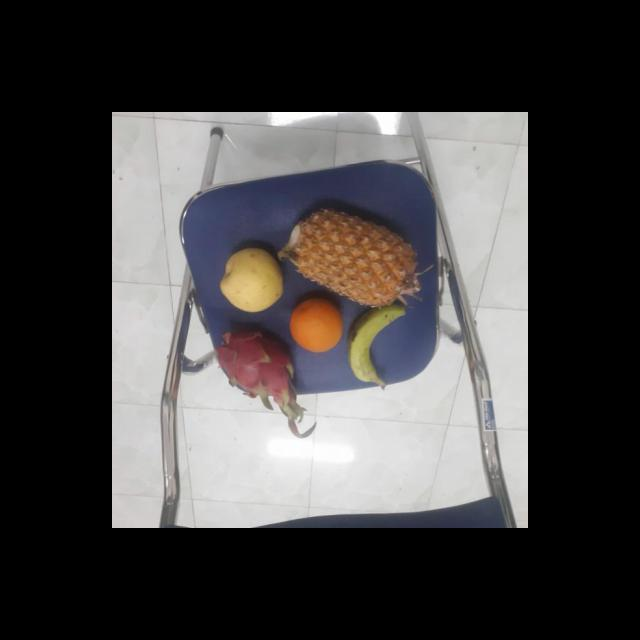banana: (345, 304, 410, 387)
orange: (287, 297, 346, 355)
pear: (217, 248, 288, 312)
pineapple: (286, 208, 426, 308)
pitaya: (218, 323, 302, 404)
